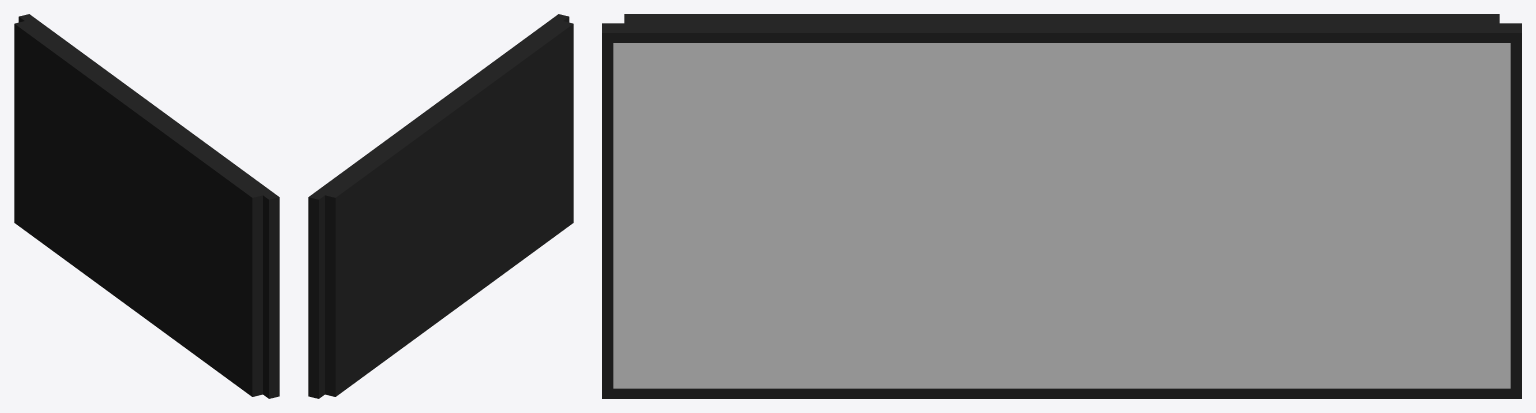
Rendered from Screen_0.obj.
The picture shows the model from 3 angles, left to right: view 1: azimuth 30°, elevation 25°; view 2: azimuth 150°, elevation 25°; view 3: azimuth 270°, elevation 25°; orthographic projection. The views are drawn at different scales.
Bounding box in the file's own units: 0.4 × 3.6 × 8.2.
Materials: 1 (1 with a texture image).
